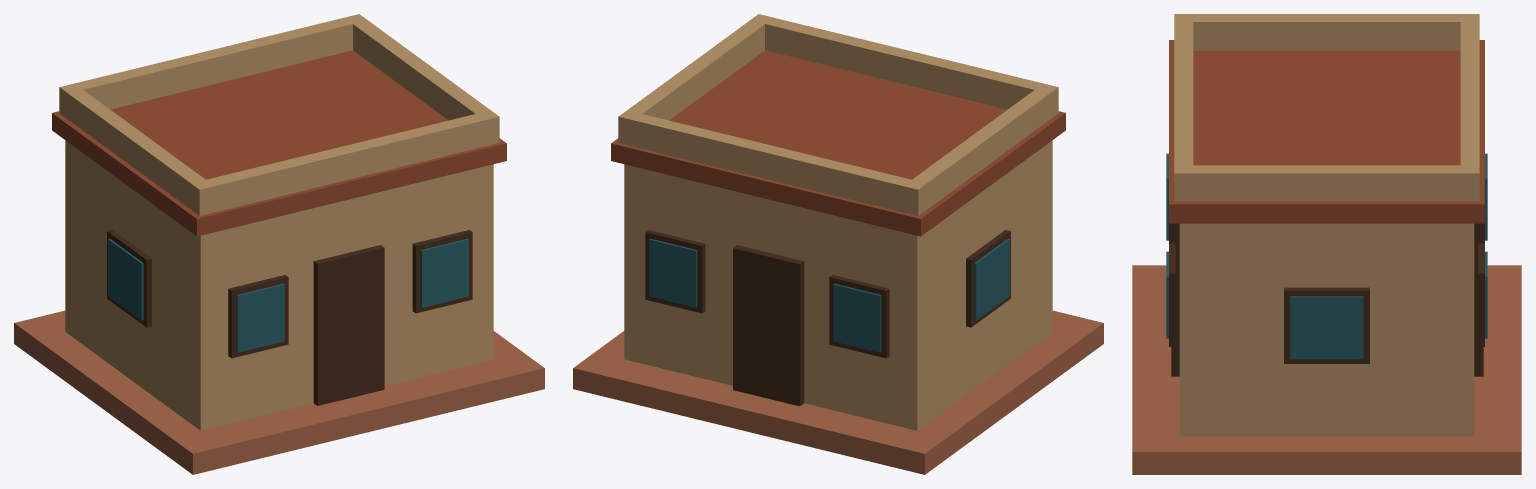
File: Desert_AdobeHouse_Simple.glb
3 renders of one model, left to right at view 1: azimuth 30°, elevation 25°; view 2: azimuth 150°, elevation 25°; view 3: azimuth 270°, elevation 25°, orthographic. The views are drawn at different scales.
Parts seen in each view (by area): view 1: Desert_AdobeHouse_Simple; view 2: Desert_AdobeHouse_Simple; view 3: Desert_AdobeHouse_Simple.
Part boxes in pixels (x1,y1,x2,y2): Desert_AdobeHouse_Simple: (14,14,544,474); Desert_AdobeHouse_Simple: (573,14,1103,474); Desert_AdobeHouse_Simple: (1132,14,1521,474).
Bounding box in the file's own units: 4.2 × 3.02 × 3.7.
